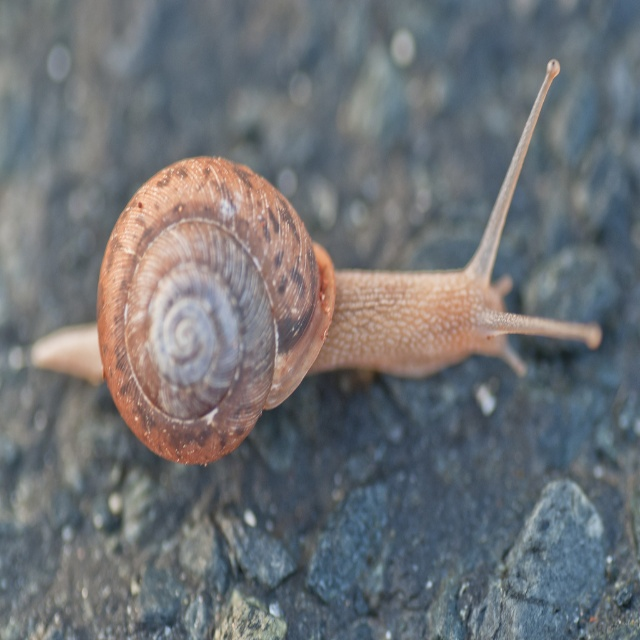Snail: (31, 59, 602, 467)
